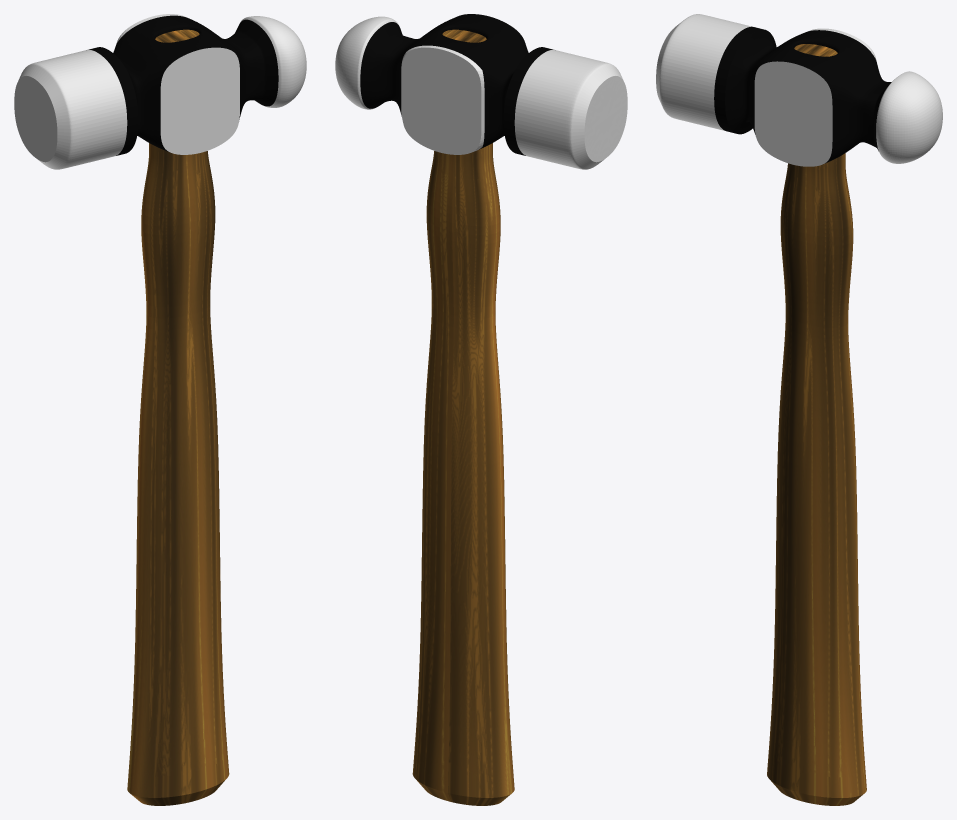
Rendered from hammer2.fbx.
3 renders of one model, left to right at view 1: azimuth 30°, elevation 25°; view 2: azimuth 150°, elevation 25°; view 3: azimuth 330°, elevation 25°, orthographic.
Visible parts, largest first — view 1: Cylinder, Cube; view 2: Cylinder, Cube; view 3: Cylinder, Cube.
Part boxes in pixels (x1,y1,x2,y2): Cylinder: (127,29,229,805); Cube: (14,14,306,169); Cylinder: (412,29,514,805); Cube: (335,14,627,169); Cylinder: (767,44,866,805); Cube: (656,14,942,166).
Bounding box in the file's own units: 661 × 1828 × 234.
